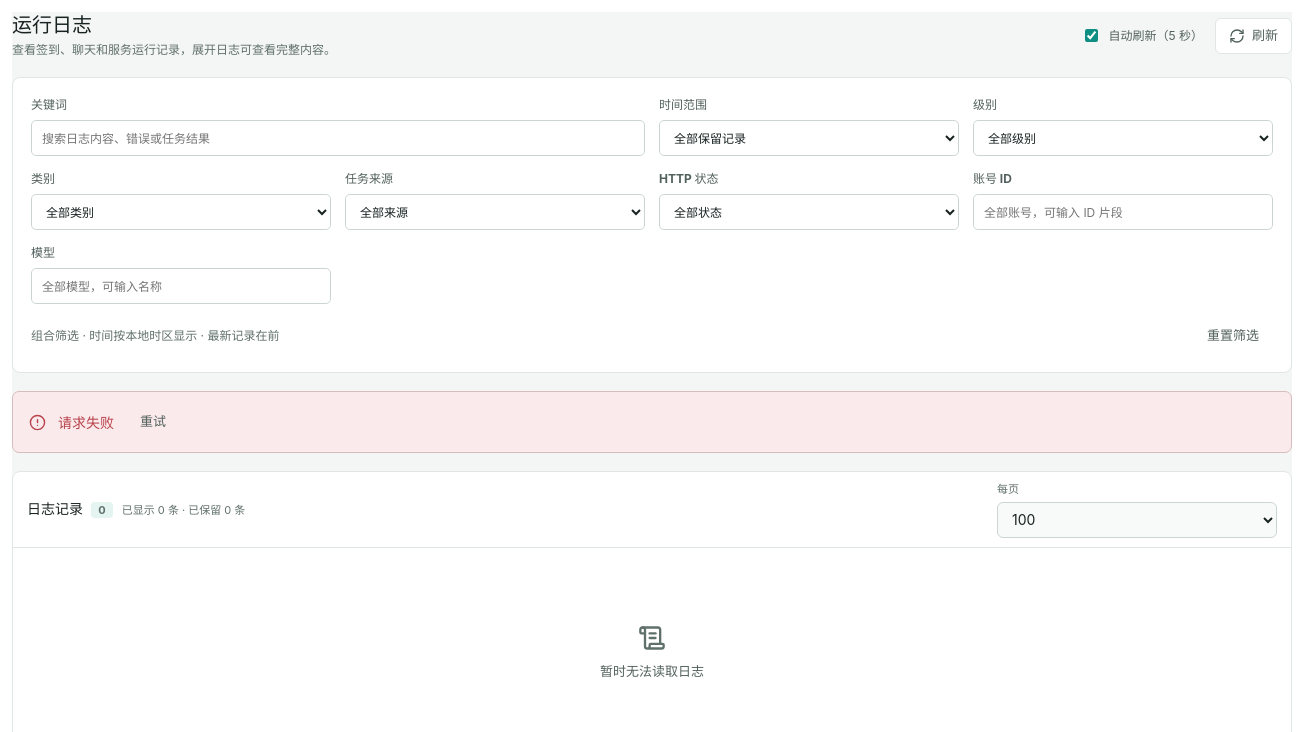
Test: LogsView › shows errors, retry and storage warnings
Check: the message "请求失败 重试" is shown, box [12,391,1292,453]
Click the button "重试" at (153, 422), box [126,404,180,440]
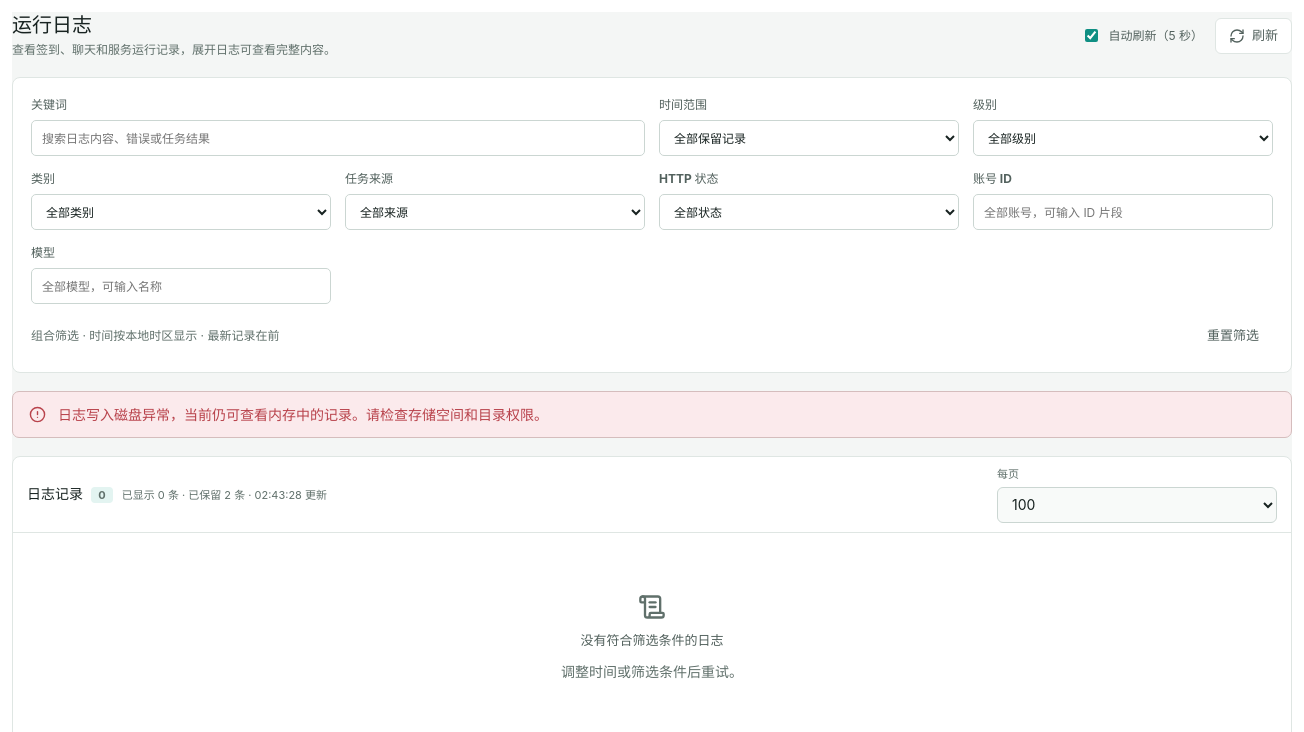
Check: the text "没有符合筛选条件" is shown, box [580,632,724,648]
Check: the text "日志写入磁盘异常" is shown, box [58,406,548,423]
